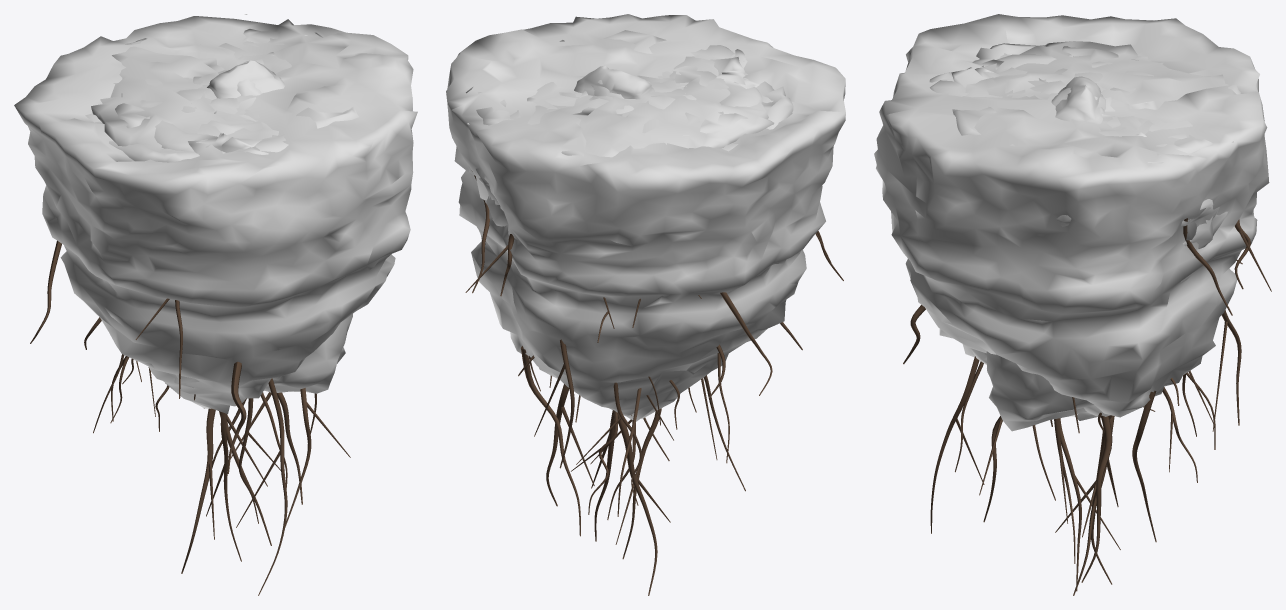
Rendered from rocks.glb.
3 views of the same model, side by side, from view 1: azimuth 30°, elevation 25°; view 2: azimuth 150°, elevation 25°; view 3: azimuth 270°, elevation 25° (orthographic). The views are drawn at different scales.
Visible parts, largest first — view 1: FloatRock_2, FloatRock_0, FloatRock_2_Roots, FloatRock_3, FloatRock_0_Roots, FloatRock_1, Boulder_2, FloatRock_1_Roots; view 2: FloatRock_2, FloatRock_0, FloatRock_2_Roots, FloatRock_3, FloatRock_0_Roots, FloatRock_1, Boulder_2, FloatRock_1_Roots, FloatRock_3_Roots; view 3: FloatRock_2, FloatRock_0, FloatRock_2_Roots, FloatRock_0_Roots, FloatRock_3, FloatRock_1, Boulder_2, FloatRock_1_Roots.
Part boxes in pixels (x1=…): FloatRock_2: x1=14, y1=14, x2=417, y2=413; FloatRock_0: x1=91, y1=38, x2=352, y2=393; FloatRock_2_Roots: x1=30, y1=240, x2=350, y2=573; FloatRock_3: x1=115, y1=29, x2=307, y2=152; FloatRock_0_Roots: x1=93, y1=354, x2=302, y2=595; FloatRock_1: x1=85, y1=32, x2=365, y2=162; Boulder_2: x1=207, y1=60, x2=285, y2=98; FloatRock_1_Roots: x1=84, y1=298, x2=287, y2=488; FloatRock_2: x1=446, y1=14, x2=845, y2=421; FloatRock_0: x1=468, y1=49, x2=774, y2=252; FloatRock_2_Roots: x1=472, y1=171, x2=802, y2=595; FloatRock_3: x1=476, y1=57, x2=762, y2=135; FloatRock_0_Roots: x1=465, y1=234, x2=745, y2=559; FloatRock_1: x1=466, y1=30, x2=793, y2=204; Boulder_2: x1=574, y1=65, x2=654, y2=99; FloatRock_1_Roots: x1=518, y1=231, x2=843, y2=468; FloatRock_3_Roots: x1=529, y1=295, x2=701, y2=516; FloatRock_2: x1=874, y1=14, x2=1269, y2=420; FloatRock_0: x1=929, y1=41, x2=1240, y2=431; FloatRock_2_Roots: x1=903, y1=218, x2=1232, y2=584; FloatRock_0_Roots: x1=930, y1=219, x2=1271, y2=595; FloatRock_3: x1=951, y1=46, x2=1212, y2=226; FloatRock_1: x1=930, y1=43, x2=1219, y2=240; Boulder_2: x1=1055, y1=76, x2=1104, y2=124; FloatRock_1_Roots: x1=955, y1=310, x2=1241, y2=472.
Size of the model in its own units: 13.09 by 18.2 by 12.43.
